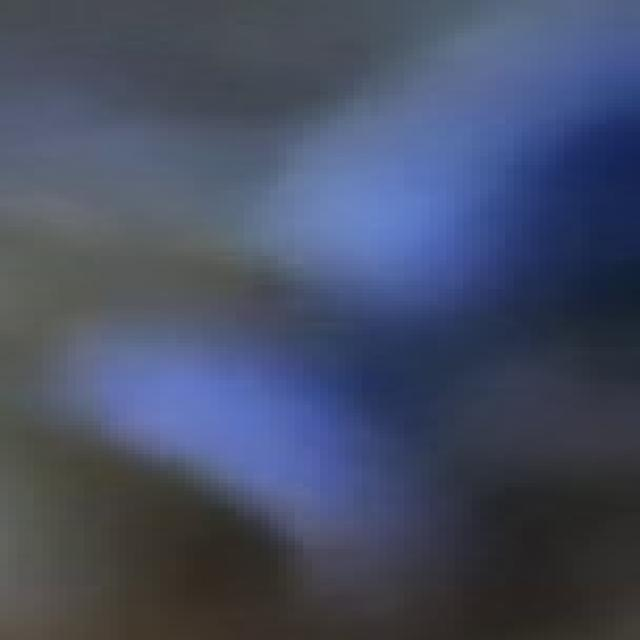fish: (0, 0, 632, 640)
